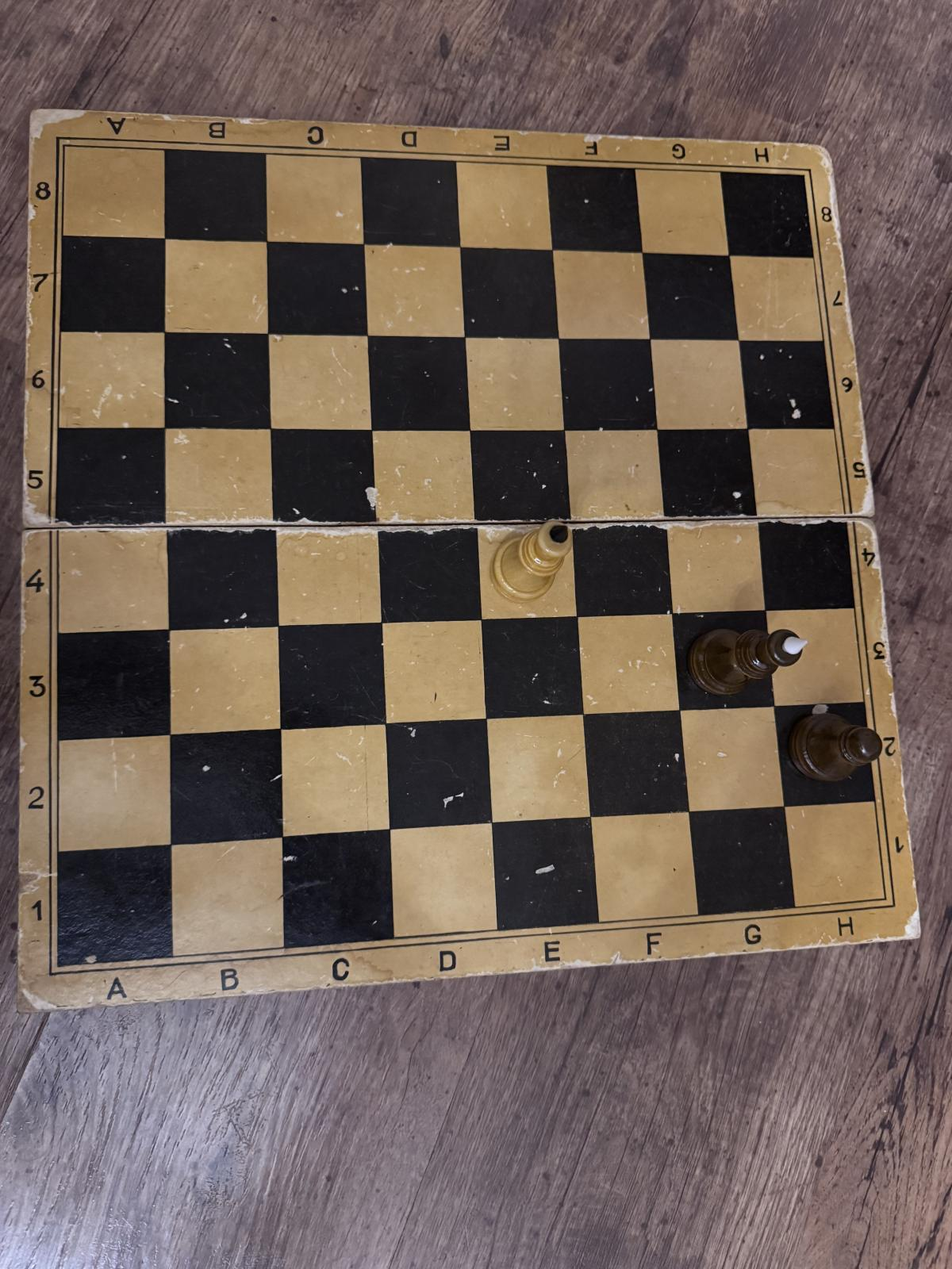Chess-Board: (58, 145, 885, 967)
